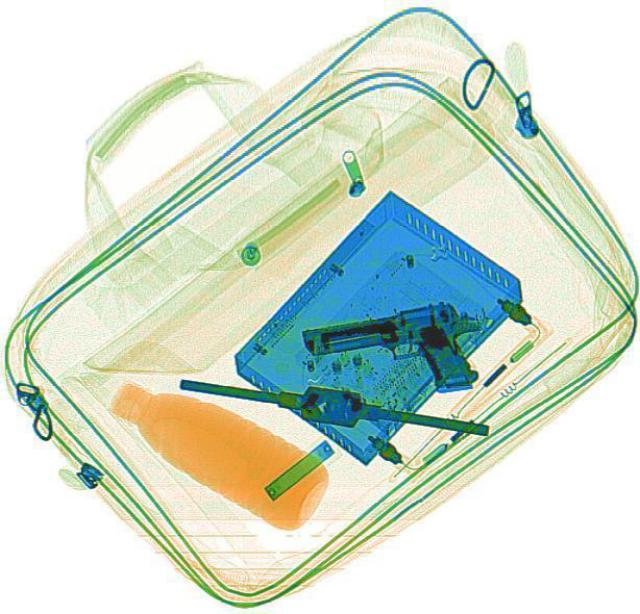Gun: (296, 293, 490, 411)
